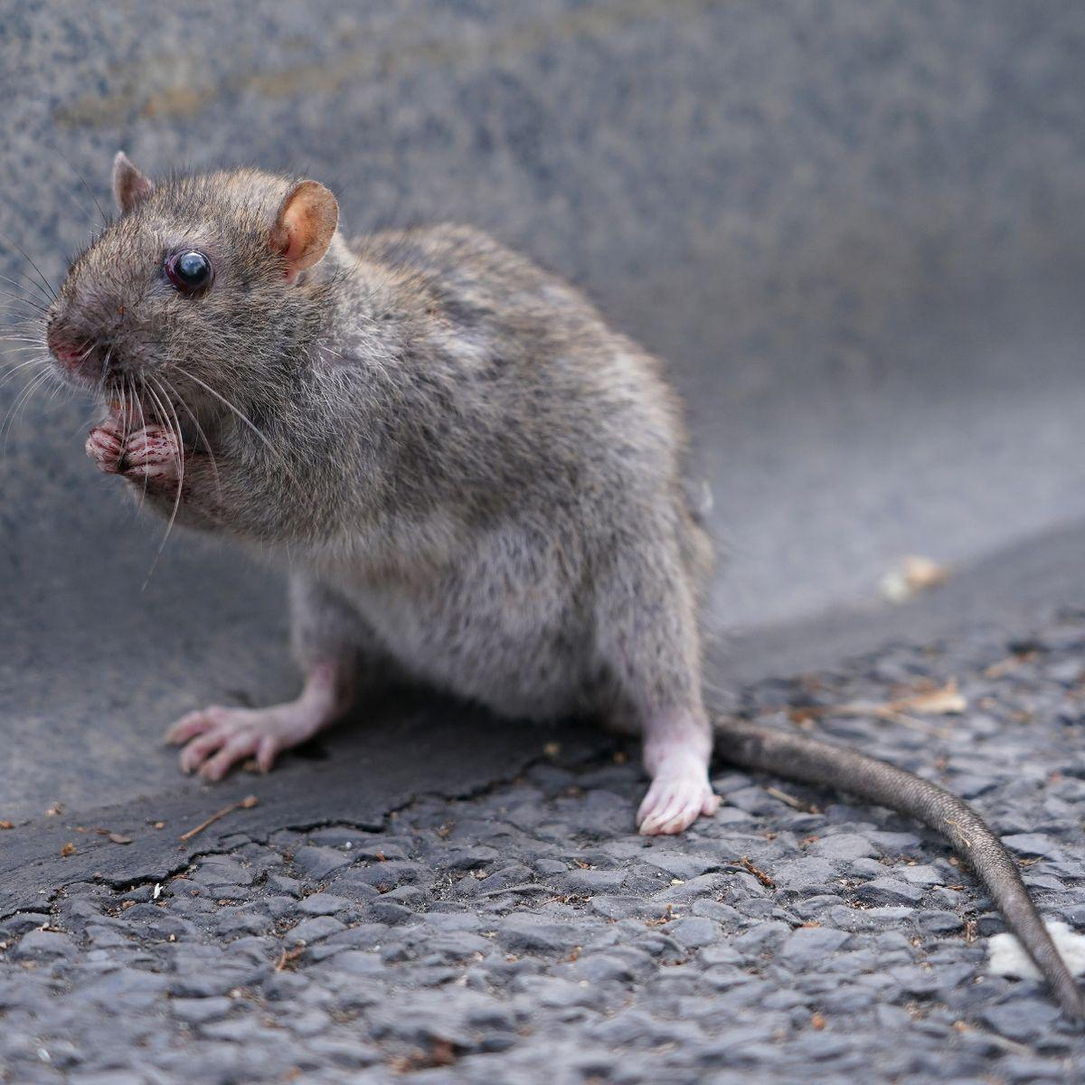rat: (42, 153, 1085, 1027)
